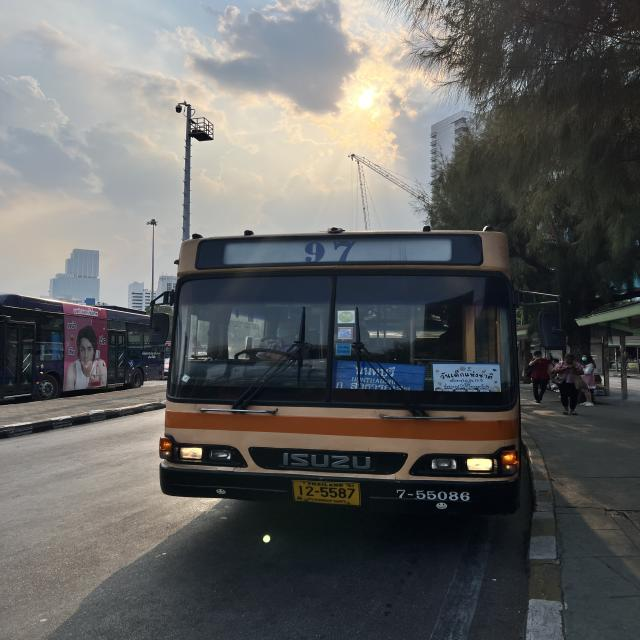BMTA-bus: (158, 229, 528, 515)
Bus Line Number: (296, 237, 362, 266)
Bus Side Number: (392, 486, 476, 506)
Destination Sign: (332, 361, 424, 392)
TSB-Bus: (0, 295, 158, 401)
